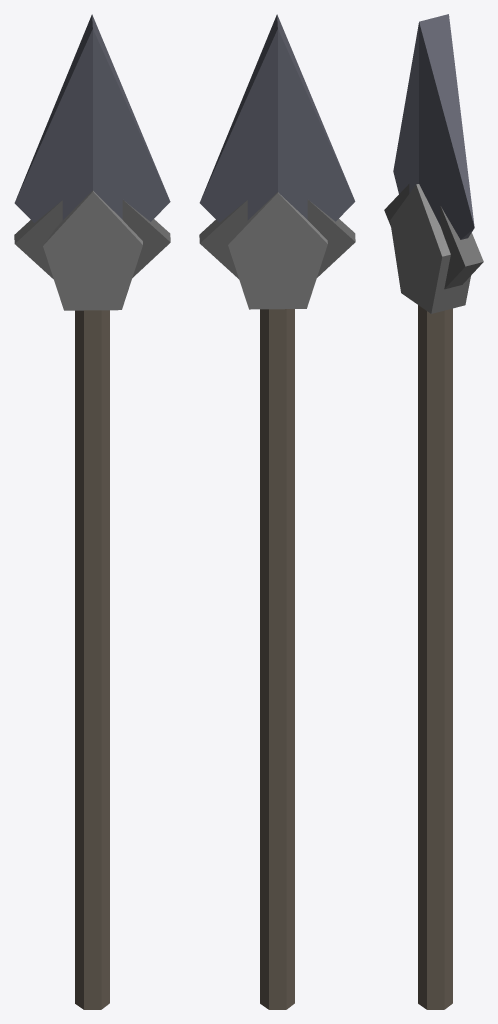
Rendered from _archers_shell_LVL_2.fbx.
The picture shows the model from 3 angles, left to right: view 1: azimuth 30°, elevation 25°; view 2: azimuth 210°, elevation 25°; view 3: azimuth 330°, elevation 25°; orthographic projection.
Parts seen in each view (by area): view 1: Archers_shell_LVL_2; view 2: Archers_shell_LVL_2; view 3: Archers_shell_LVL_2.
Boxes of the visible parts, box(x1,y1,x2,y2) form: Archers_shell_LVL_2: box(14, 14, 170, 1009); Archers_shell_LVL_2: box(199, 14, 355, 1009); Archers_shell_LVL_2: box(384, 14, 483, 1009).
Bounding box in the file's own units: 39.79 × 293 × 25.33.
